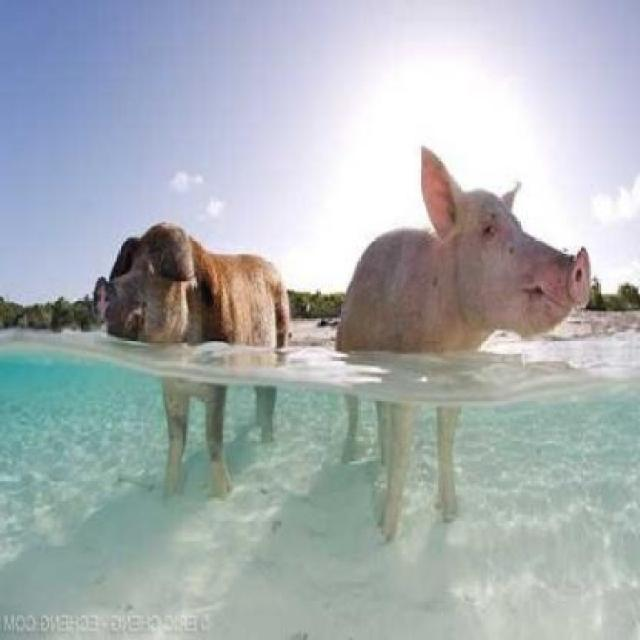Boar: (314, 143, 592, 531), (71, 189, 295, 485)
